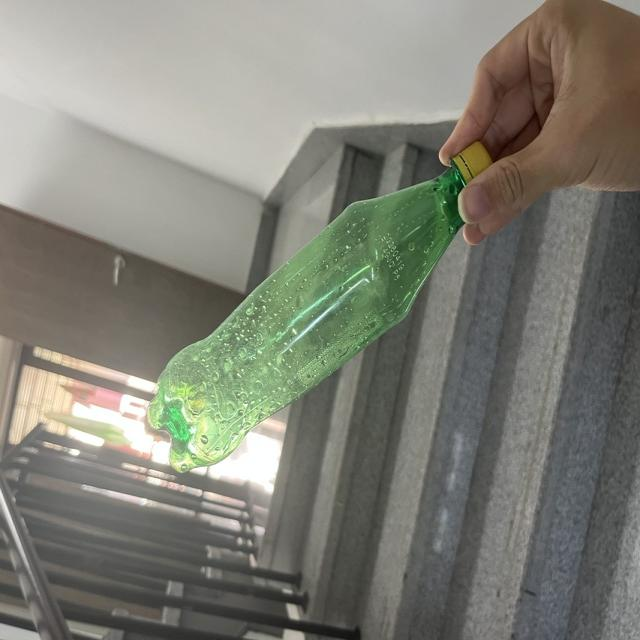empty: (148, 141, 491, 470)
